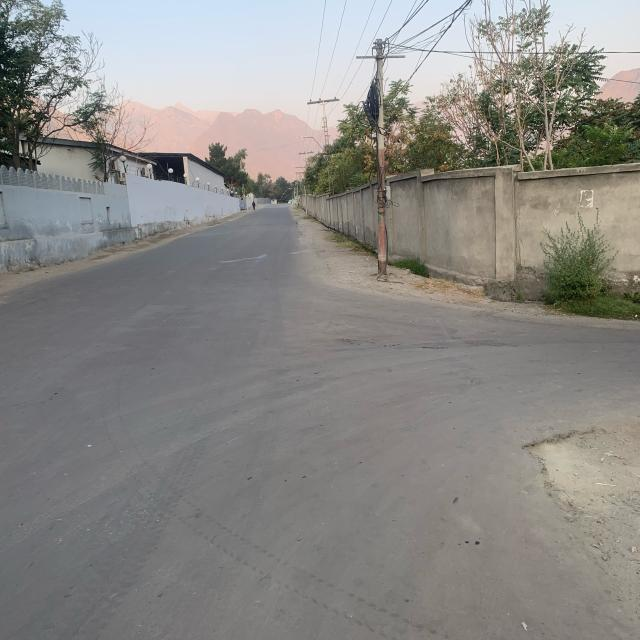Right-Turn: (265, 323, 628, 579)
straight: (191, 209, 276, 317)
